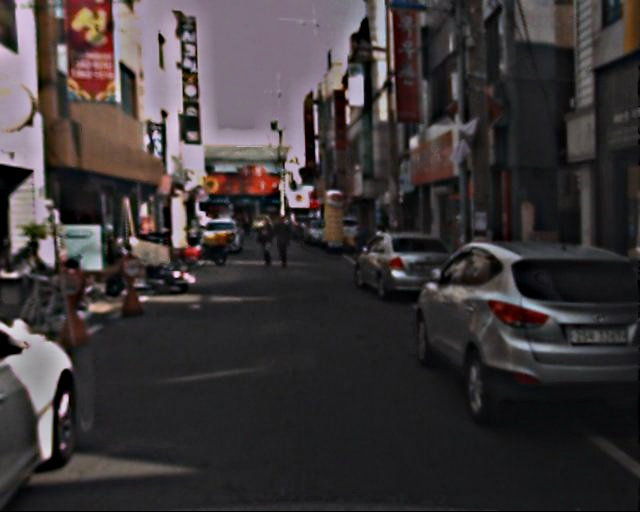person: (274, 212, 298, 274), (352, 213, 375, 277), (257, 218, 278, 272)
